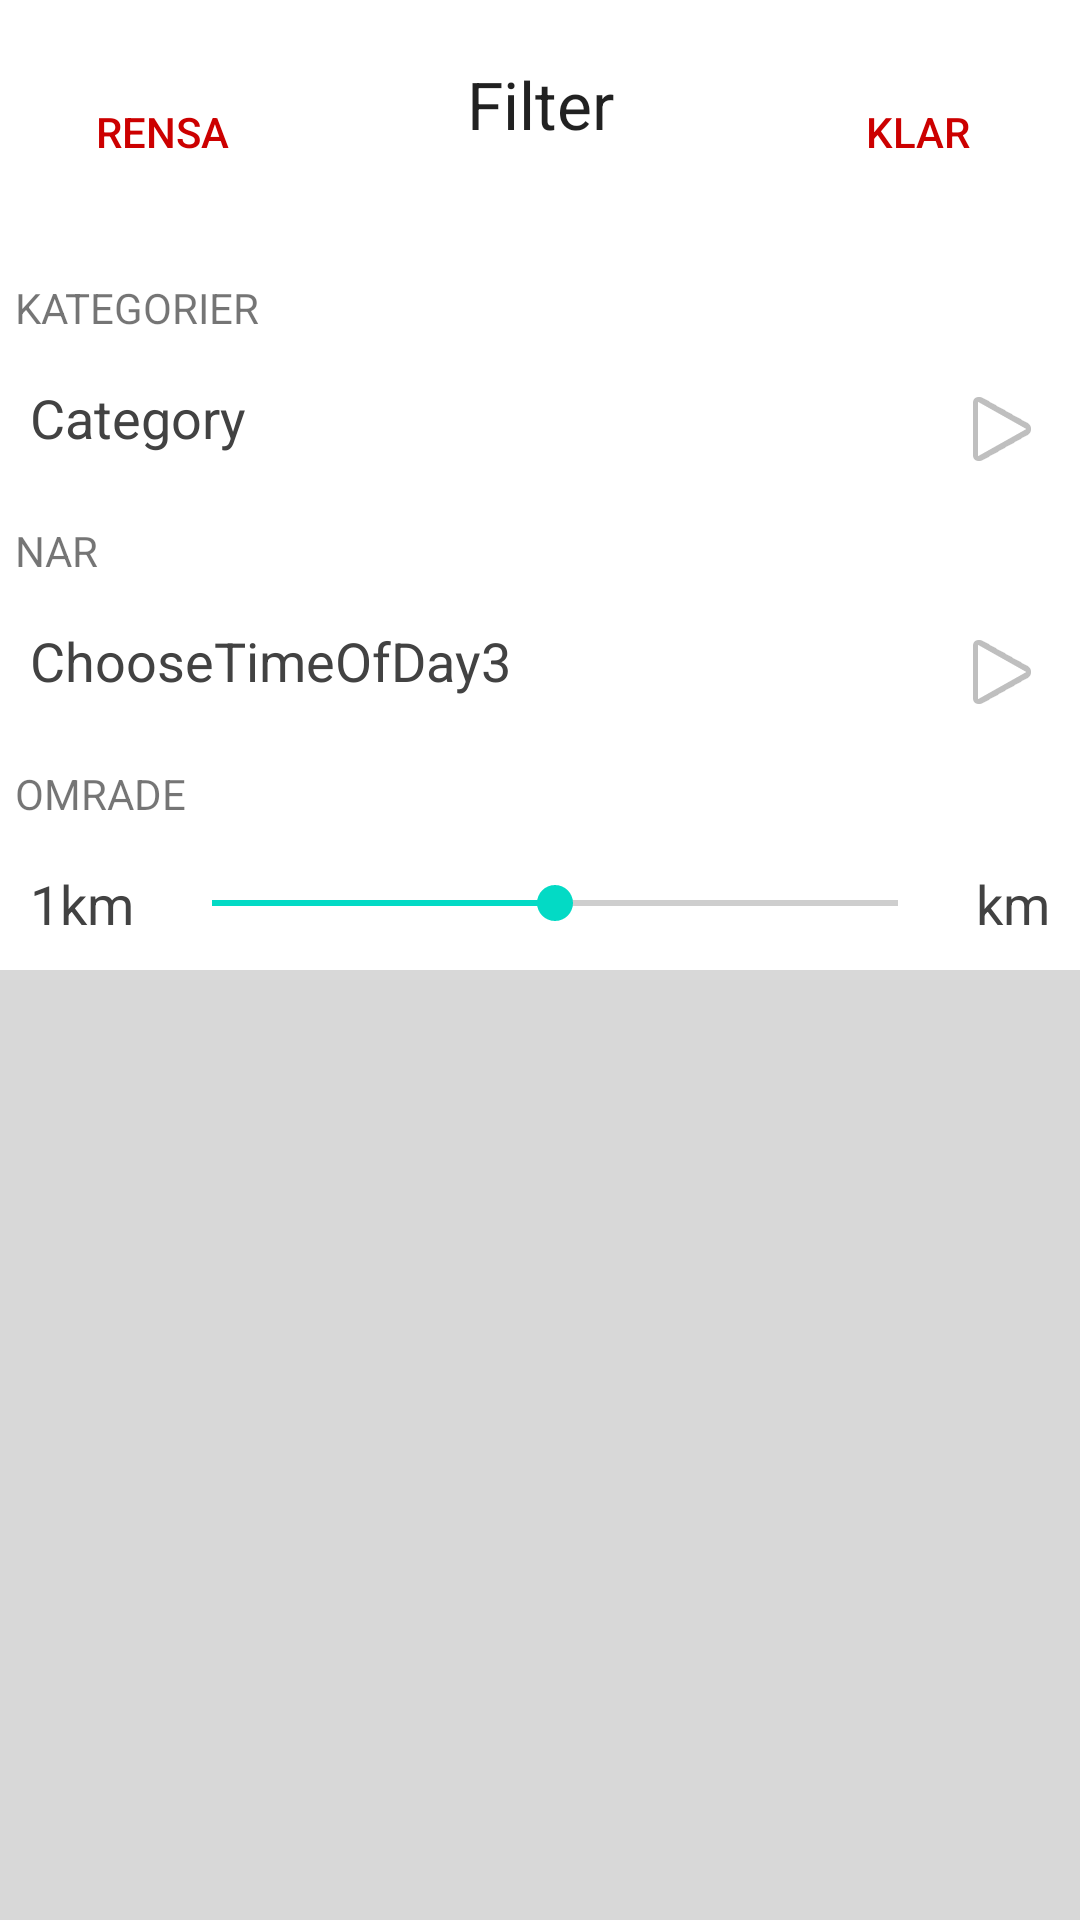

Screen size 1080 x 1920. Icon name, then its center in pixels as (x=x, y=y):
play: (x=1002, y=429), (x=1002, y=672)
